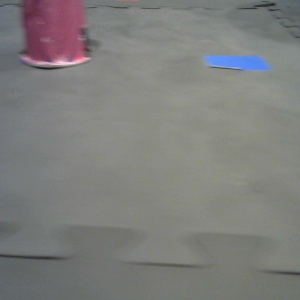Right: (227, 1, 300, 98)
